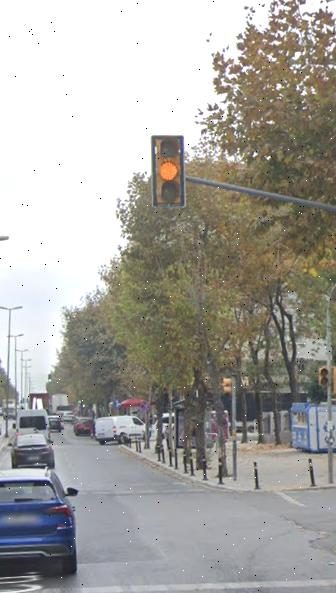yellowlight: (152, 134, 183, 205)
